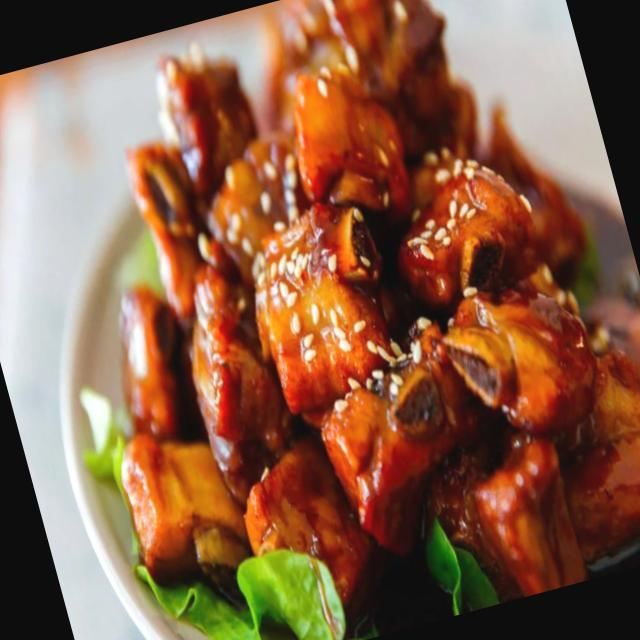suon xao: (121, 0, 640, 634)
